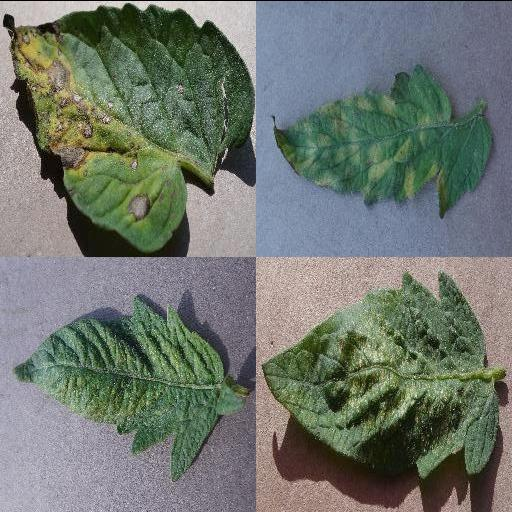Early Blight: (2, 2, 256, 249)
Leaf Mold: (271, 64, 491, 216)
Spider Mites: (260, 270, 500, 476), (13, 296, 227, 482)
